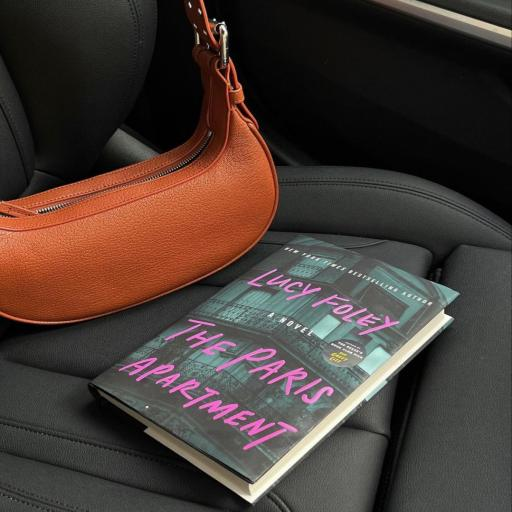bed: (90, 236, 458, 510)
door: (0, 0, 278, 325)
